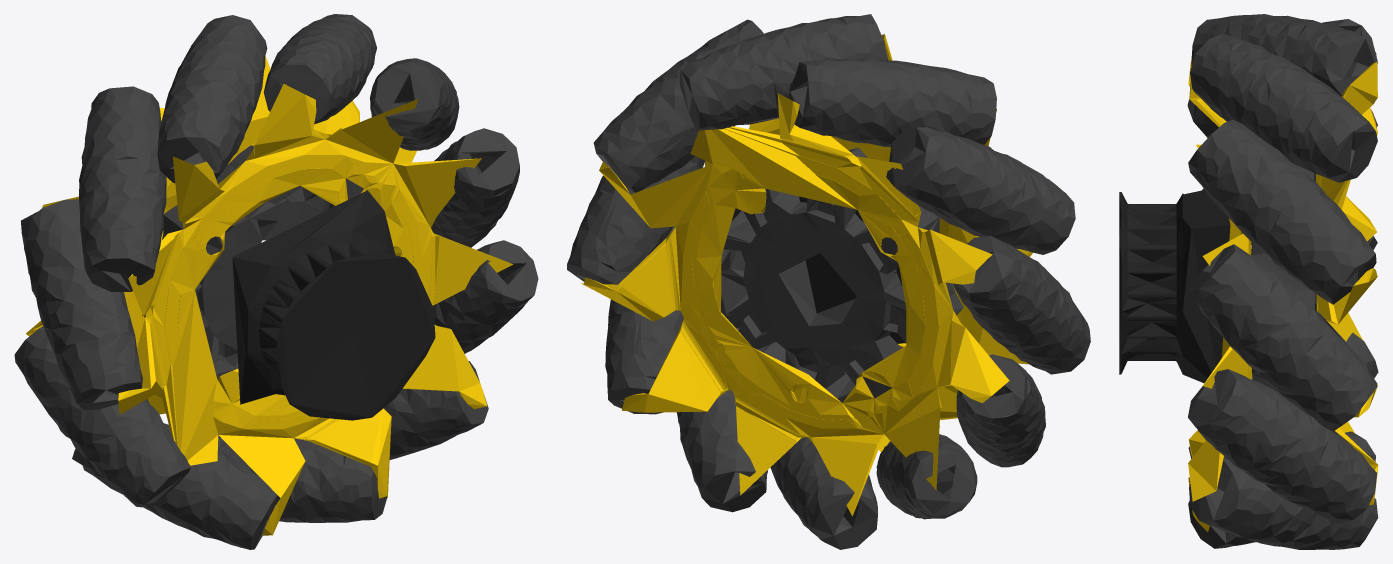
The model's file is wheelBR.glb.
3 views of the same model, side by side, from view 1: azimuth 30°, elevation 25°; view 2: azimuth 150°, elevation 25°; view 3: azimuth 270°, elevation 25° (orthographic).
Parts seen in each view (by area): view 1: wheelBR_2, wheelBR_1, wheelBR_0; view 2: wheelBR_2, wheelBR_1, wheelBR_0; view 3: wheelBR_2, wheelBR_0, wheelBR_1.
Part boxes in pixels (left/top/right/bottom): wheelBR_2: left=14, top=14, right=538, bottom=549; wheelBR_1: left=26, top=56, right=513, bottom=535; wheelBR_0: left=232, top=190, right=435, bottom=420; wheelBR_2: left=567, top=14, right=1090, bottom=549; wheelBR_1: left=581, top=34, right=1032, bottom=516; wheelBR_0: left=799, top=196, right=905, bottom=343; wheelBR_2: left=1187, top=14, right=1378, bottom=549; wheelBR_0: left=1119, top=190, right=1230, bottom=383; wheelBR_1: left=1188, top=59, right=1378, bottom=531.
Bounding box in the file's own units: 4.08 × 4.08 × 1.98.
